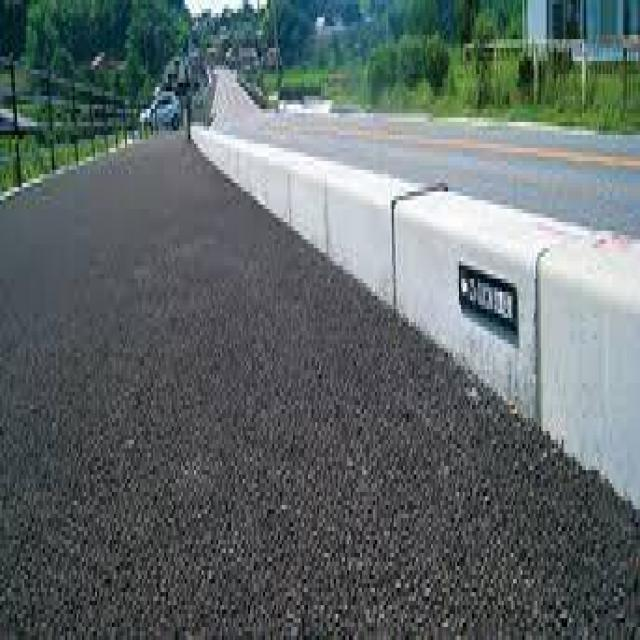bump: (268, 140, 638, 410)
